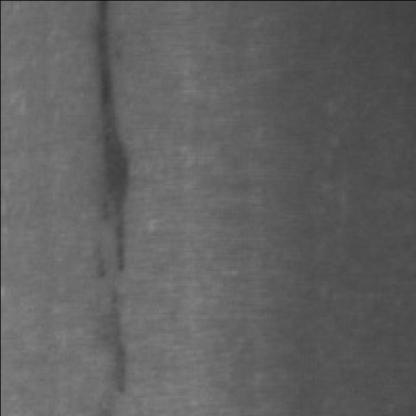inclusion: (81, 2, 139, 281), (94, 272, 140, 410)
